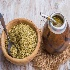guampa: (34, 8, 70, 56)
